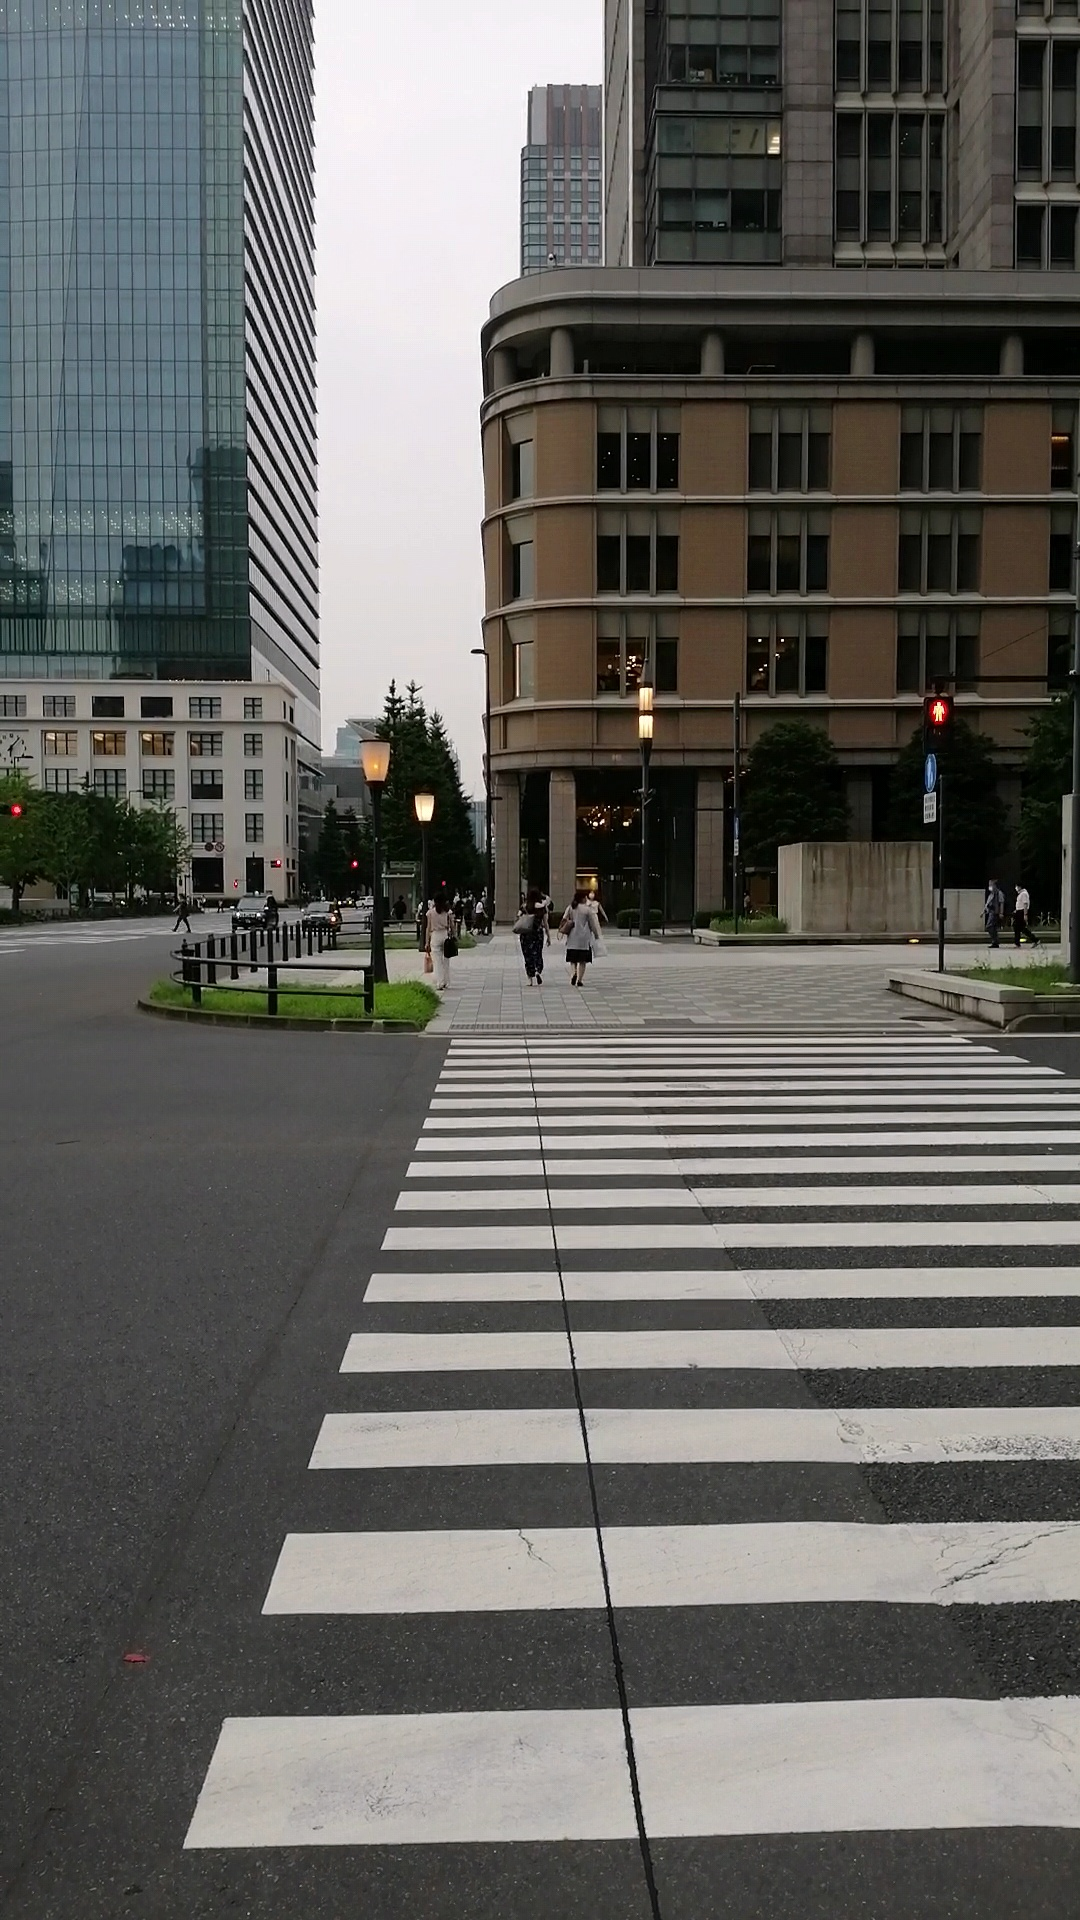red: (920, 694, 955, 752)
